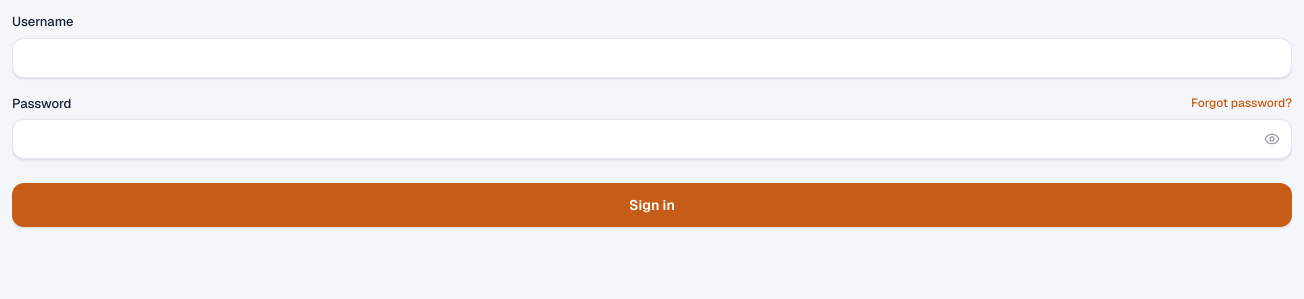
Scenario: LoginForm › announces invalid credentials with an alert
Type "jordan" into the field labelled "Username" at (652, 58), box [12,38,1292,78]
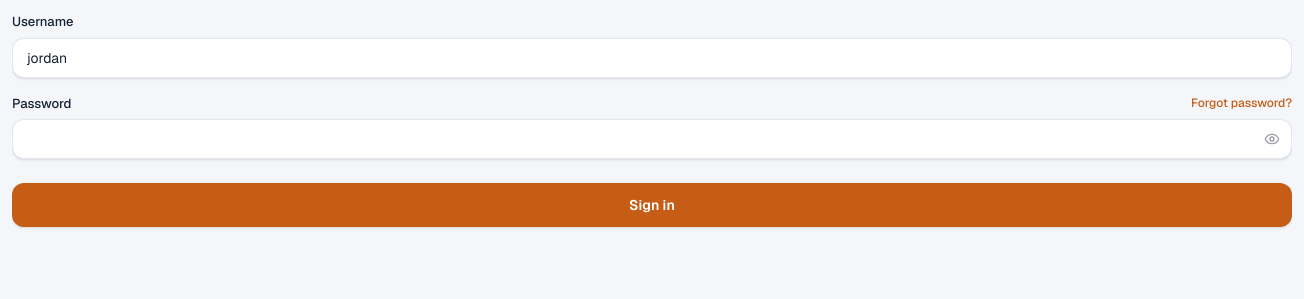
Type "wrong" into the password field labelled "Password" at (652, 139), box [12,119,1292,159]
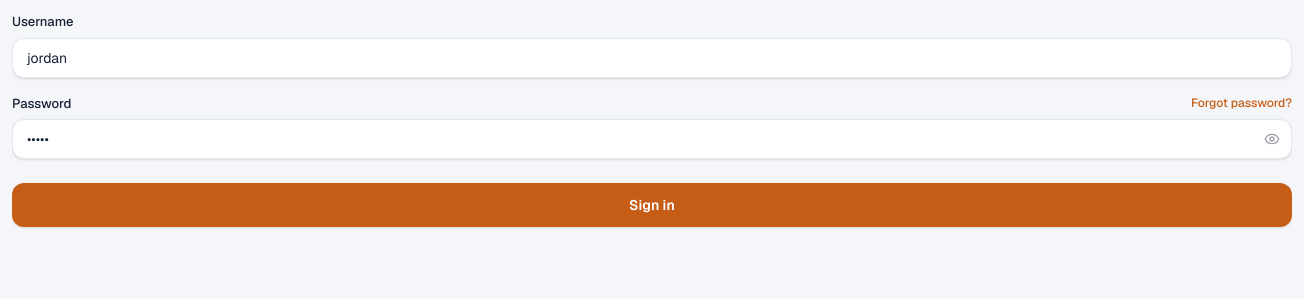
Click the button "Sign in" at (652, 205), box [12,183,1292,227]
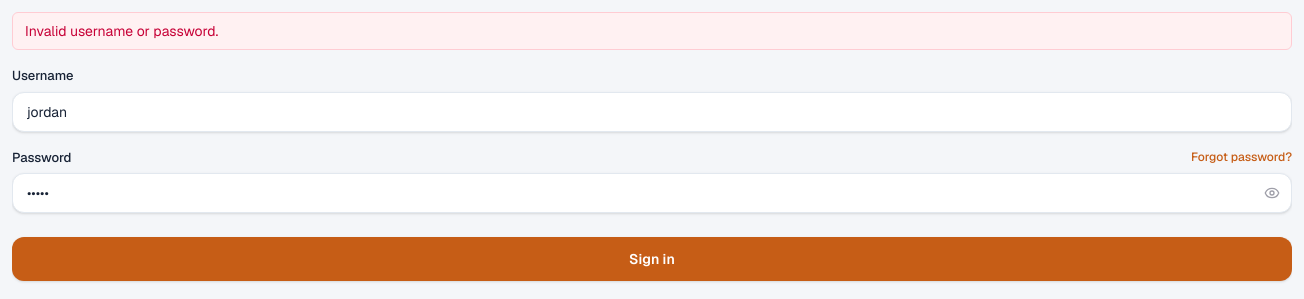
Check: the message reads "Invalid username or password.", box [25,22,218,40]
